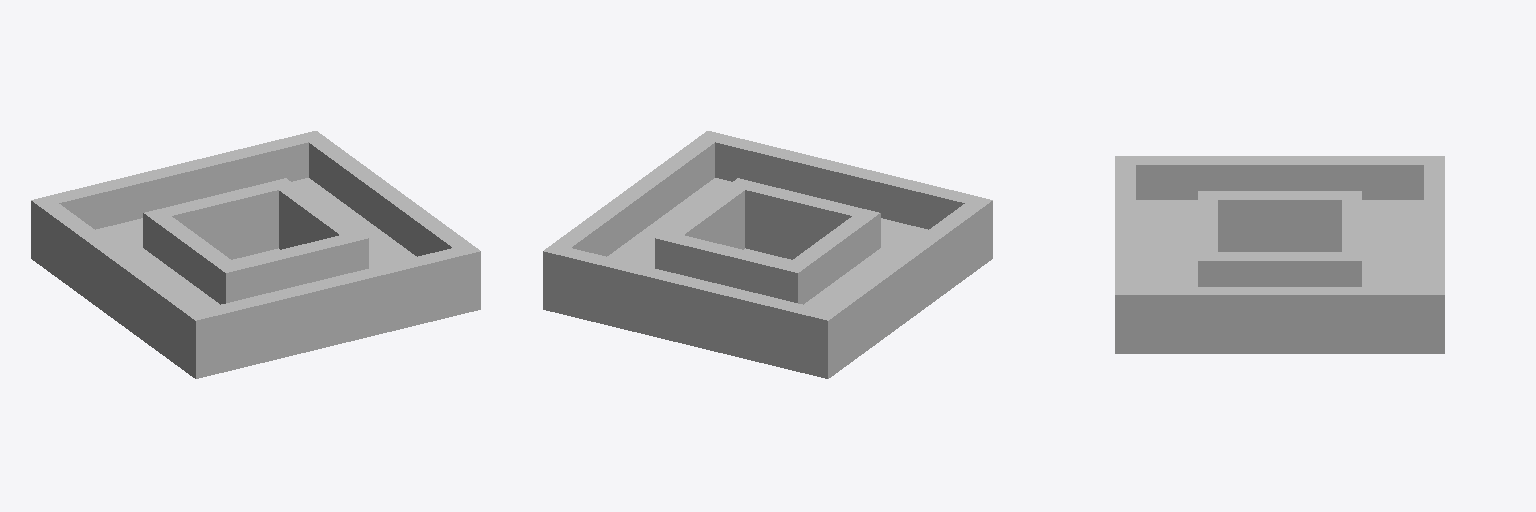
The model's file is piso2.obj.
3 views of the same model, side by side, from view 1: azimuth 30°, elevation 25°; view 2: azimuth 150°, elevation 25°; view 3: azimuth 270°, elevation 25° (orthographic).
Visible parts, largest first — view 1: Plane; view 2: Plane; view 3: Plane.
Part boxes in pixels (left/top/right/bottom): Plane: left=31, top=131, right=480, bottom=378; Plane: left=543, top=131, right=992, bottom=378; Plane: left=1115, top=156, right=1444, bottom=353.
Bounding box in the file's own units: 136 × 27.65 × 136.